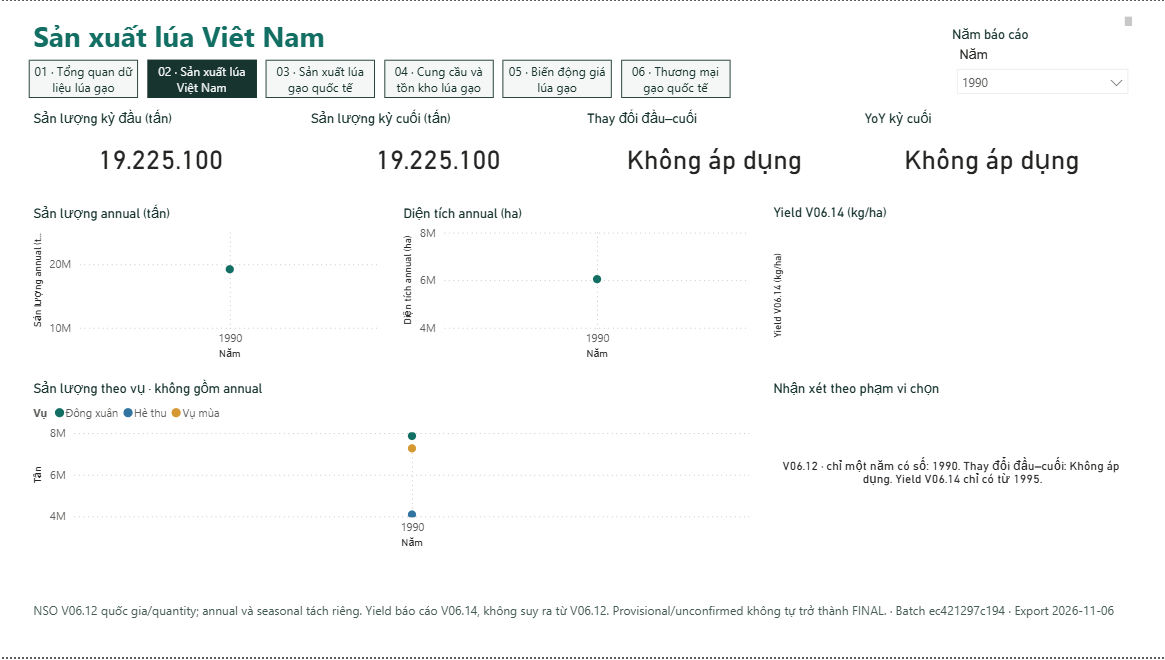

The dashboard page shown, as its layout file describes it:
{"tool":"powerbi","page":{"name":"02 · Sản xuất lúa Việt Nam","canvas":[1280,720],"ordinal":1},"visuals":[{"type":"textbox","box":[32,12,1216,44],"z":1},{"type":"pageNavigator","box":[32,64,770,42],"z":2},{"type":"card","title":"Sản lượng kỳ đầu (tấn)","fields":{"Values":["Overview.First Production Display"]},"box":[32,120,290,90],"z":3},{"type":"card","title":"Sản lượng kỳ cuối (tấn)","fields":{"Values":["Overview.Latest Production Display"]},"box":[336,120,290,90],"z":4},{"type":"card","title":"Thay đổi đầu–cuối","fields":{"Values":["Overview.Production Change Pct Display"]},"box":[640,120,290,90],"z":5},{"type":"card","title":"YoY kỳ cuối","fields":{"Values":["Overview.Latest Production YoY Display"]},"box":[944,120,290,90],"z":6},{"type":"slicer","title":"Năm báo cáo","fields":{"Values":["CalendarYear.Year"]},"box":[1040,28,208,88],"z":7},{"type":"lineChart","title":"Sản lượng annual (tấn)","fields":{"Category":["CalendarYear.Year"],"Y":["Overview.Annual Production"]},"box":[32,224,390,175],"z":8},{"type":"lineChart","title":"Diện tích annual (ha)","fields":{"Category":["CalendarYear.Year"],"Y":["Overview.Annual Area"]},"box":[438,224,390,175],"z":9},{"type":"lineChart","title":"Yield V06.14 (kg/ha)","fields":{"Category":["CalendarYear.Year"],"Y":["Overview.Reported Yield"]},"box":[844,224,404,175],"z":10},{"type":"lineChart","title":"Sản lượng theo vụ · không gồm annual","fields":{"Category":["CalendarYear.Year"],"Series":["NSOSeasonal.season_label_vi"],"Y":["Overview.Seasonal Production"]},"box":[32,416,796,190],"z":11},{"type":"card","title":"Nhận xét theo phạm vi chọn","fields":{"Values":["Overview.NSO Insight"]},"box":[844,416,404,190],"z":12},{"type":"textbox","box":[32,654,1216,56],"z":90}]}

Visuals, with their boxes in screenshot pixels (x1, y1, x2, y2), scaled from the page's 1280x720 canvas onto the 1165x660 screenshot:
textbox: locate(29, 11, 1136, 51)
pageNavigator: locate(29, 59, 730, 97)
"Sản lượng kỳ đầu (tấn)" card: locate(29, 110, 293, 192)
"Sản lượng kỳ cuối (tấn)" card: locate(306, 110, 570, 192)
"Thay đổi đầu–cuối" card: locate(582, 110, 846, 192)
"YoY kỳ cuối" card: locate(859, 110, 1123, 192)
"Năm báo cáo" slicer: locate(947, 26, 1136, 106)
"Sản lượng annual (tấn)" lineChart: locate(29, 205, 384, 366)
"Diện tích annual (ha)" lineChart: locate(399, 205, 754, 366)
"Yield V06.14 (kg/ha)" lineChart: locate(768, 205, 1136, 366)
"Sản lượng theo vụ · không gồm annual" lineChart: locate(29, 381, 754, 556)
"Nhận xét theo phạm vi chọn" card: locate(768, 381, 1136, 556)
textbox: locate(29, 600, 1136, 651)
